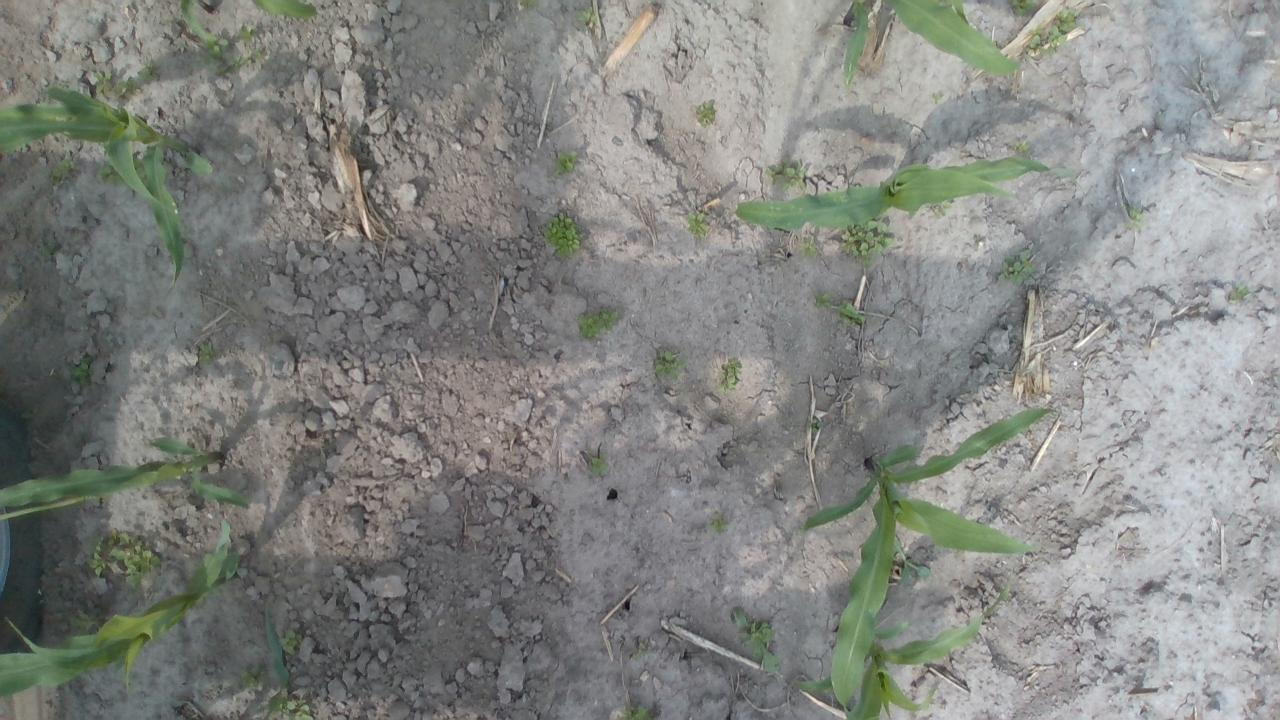Maize: (802, 402, 1058, 712), (0, 82, 218, 296), (0, 522, 246, 702), (801, 563, 1024, 719), (734, 155, 1054, 230), (0, 436, 254, 520), (841, 1, 1025, 84), (178, 0, 320, 41)
Weeds: (88, 530, 162, 590), (732, 605, 784, 677), (1017, 1, 1081, 55), (208, 28, 264, 72), (843, 220, 892, 260), (544, 214, 581, 254), (816, 293, 866, 322), (63, 348, 94, 394), (578, 304, 614, 341), (769, 160, 808, 192), (272, 698, 319, 720), (654, 349, 687, 377), (52, 152, 76, 187), (1008, 256, 1042, 280), (698, 102, 719, 126), (723, 362, 741, 388), (284, 632, 304, 655), (558, 154, 577, 176), (621, 704, 650, 718), (581, 6, 600, 25), (690, 212, 705, 236), (706, 518, 726, 535), (591, 455, 608, 474), (198, 343, 212, 366), (1237, 282, 1254, 300), (1130, 206, 1142, 220)
